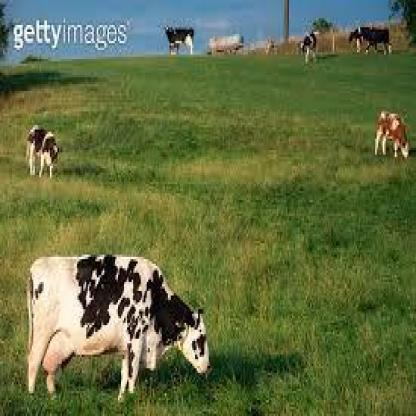cow: (26, 252, 210, 400), (23, 121, 63, 180), (374, 109, 410, 159), (164, 25, 195, 57), (362, 26, 393, 56), (347, 24, 373, 56), (300, 32, 318, 61)
